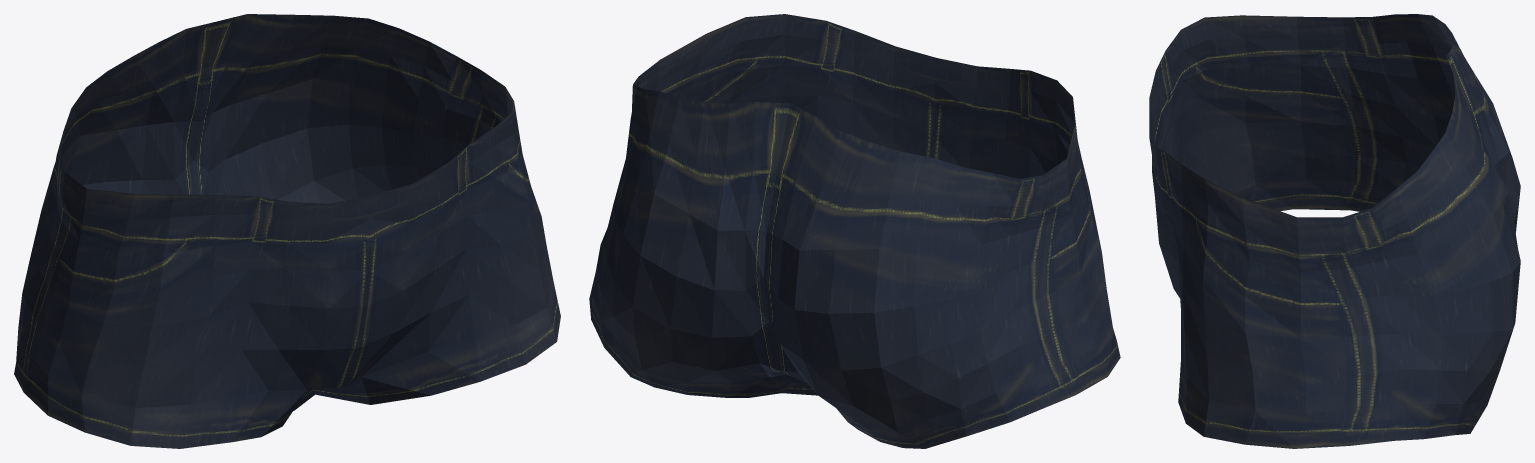
File: mhw_cortu_jeans_shorts.glb
3 views of the same model, side by side, from view 1: azimuth 30°, elevation 25°; view 2: azimuth 150°, elevation 25°; view 3: azimuth 270°, elevation 25° (orthographic). The views are drawn at different scales.
Visible parts, largest first — view 1: mhw_cortu_jeans_shorts; view 2: mhw_cortu_jeans_shorts; view 3: mhw_cortu_jeans_shorts.
Boxes of the visible parts, left/top/right/bottom form: mhw_cortu_jeans_shorts: left=14, top=14, right=560, bottom=448; mhw_cortu_jeans_shorts: left=589, top=14, right=1120, bottom=448; mhw_cortu_jeans_shorts: left=1149, top=14, right=1520, bottom=448.
Size of the model in its own units: 0.3781 by 0.2526 by 0.2476.
1 material, 1 textured.
